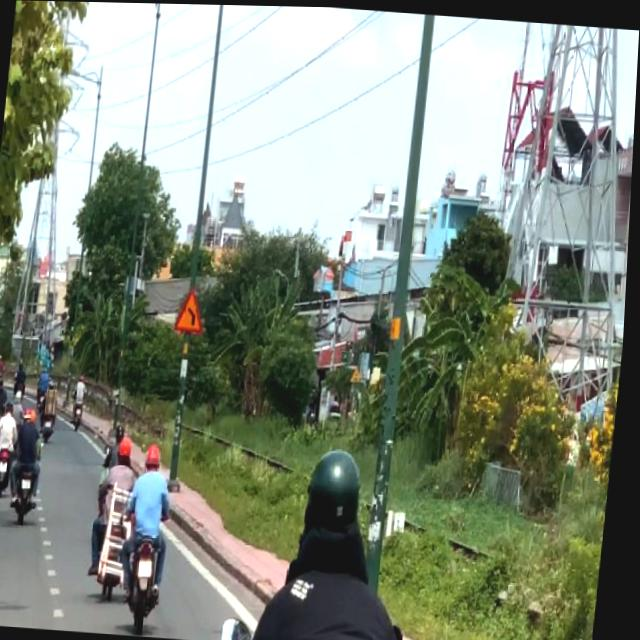cho ngoat nguy hiem vong ben trai: (177, 286, 210, 333)
